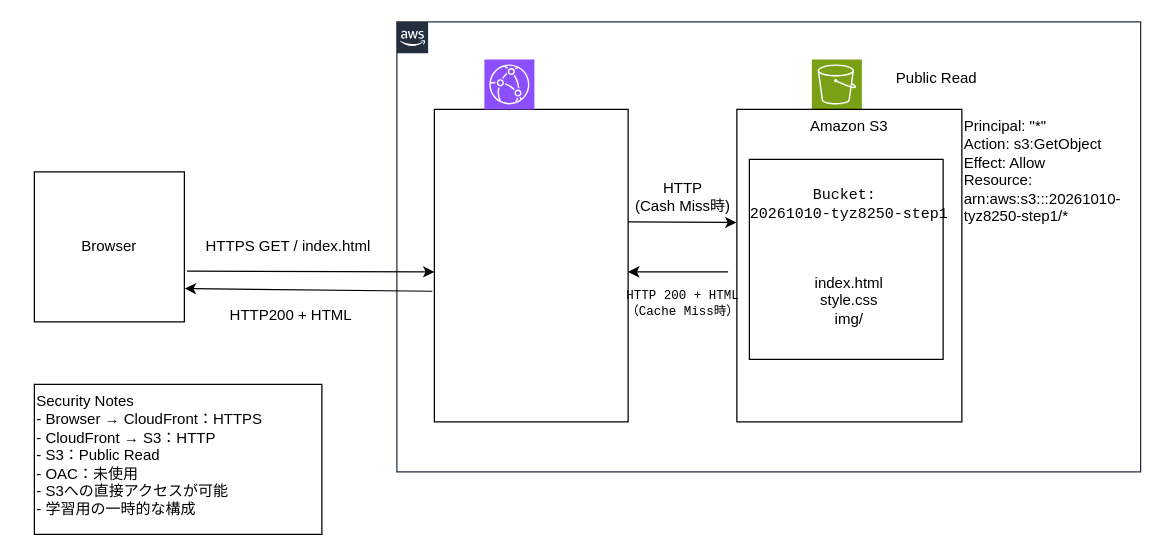
This 1176x556 diagram has some shape labels left out. The shapes that lost their labels are listed below. From the top down, each one's box as (x1, y1, x2, y2) in pixels, then its label:
(433, 108, 628, 422): CloudFront （Global）
(396, 21, 1141, 472): AWS Cloud
